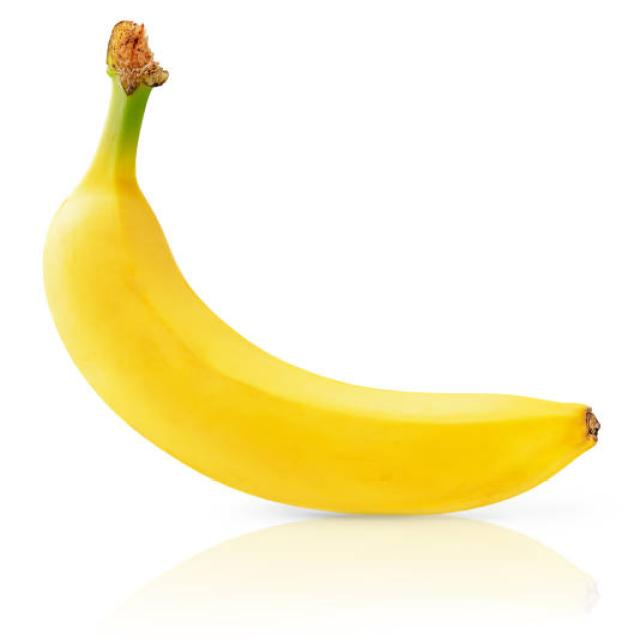Ripe: (34, 80, 605, 520)
